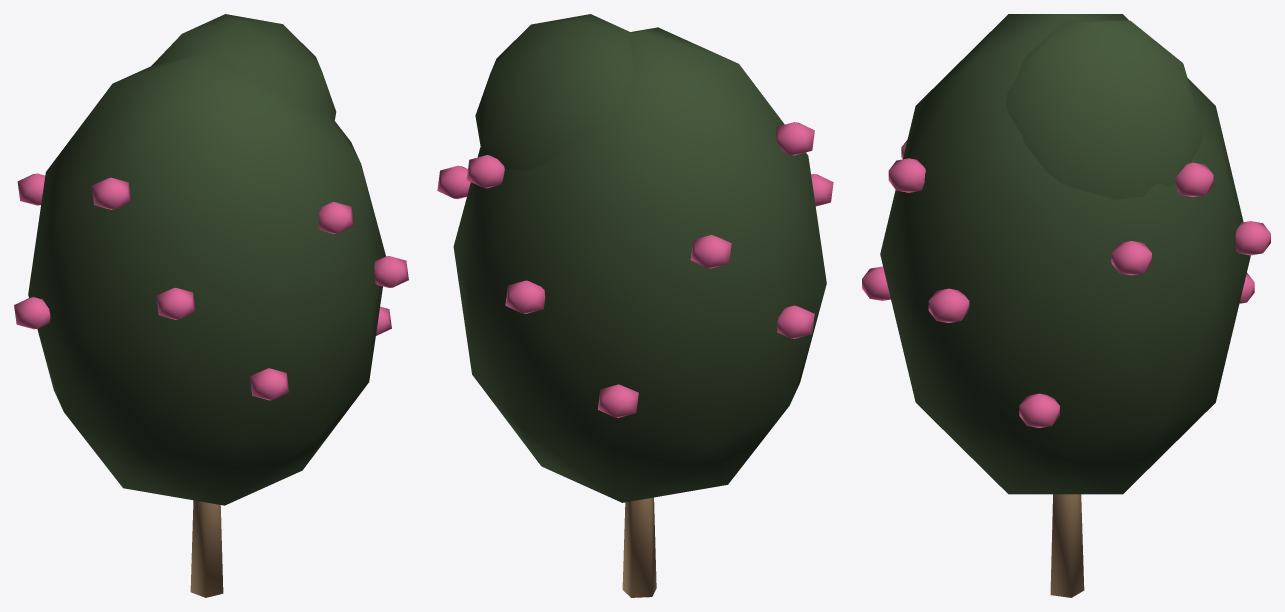
Rendered from scatter4.fbx.
3 renders of one model, left to right at view 1: azimuth 30°, elevation 25°; view 2: azimuth 150°, elevation 25°; view 3: azimuth 270°, elevation 25°, orthographic. The views are drawn at different scales.
Visible parts, largest first — view 1: a2000/400/scatter4; view 2: a2000/400/scatter4; view 3: a2000/400/scatter4.
Part boxes in pixels (left/top/right/bottom): a2000/400/scatter4: left=14, top=14, right=408, bottom=597; a2000/400/scatter4: left=437, top=14, right=833, bottom=597; a2000/400/scatter4: left=862, top=14, right=1270, bottom=597.
Size of the model in its own units: 1.62 by 2.45 by 1.54.
